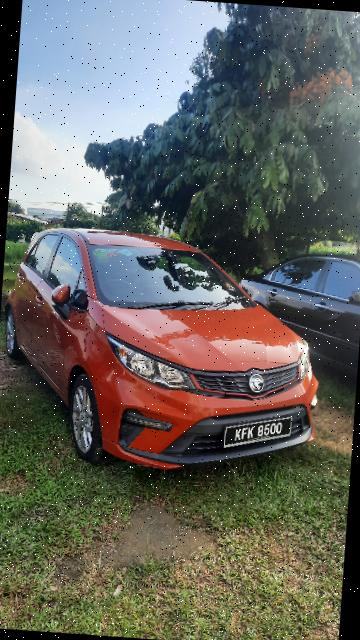License_Plate: (213, 407, 305, 458)
car: (1, 214, 346, 493)
